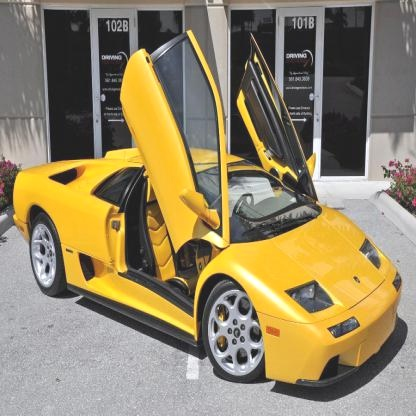Vehicle: (13, 29, 404, 395)
